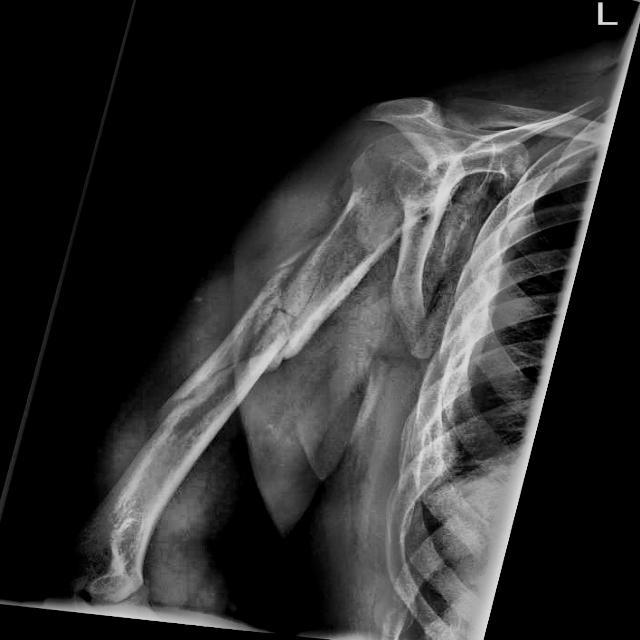fracture: (168, 238, 326, 408)
